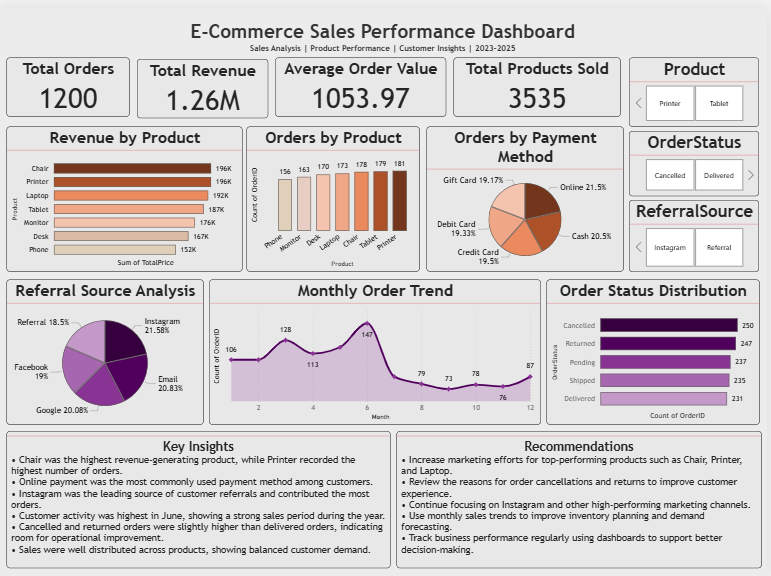

The page's visual inventory and layout, read from the dashboard file:
{"tool":"powerbi","page":{"name":"Page 1","canvas":[1280,950],"ordinal":0},"visuals":[{"type":"textbox","box":[4.7,15.6,1269.1,68.8],"z":0},{"type":"card","title":"Total Orders","fields":{"Values":["CountNonNull(Sheet1.OrderID)"]},"box":[11.7,83.3,205,98.3],"z":1000},{"type":"card","title":"Total Revenue","fields":{"Values":["Sum(Sheet1.TotalPrice)"]},"box":[230,85,218.3,98.3],"z":2000},{"type":"card","title":"Average Order Value","fields":{"Values":["Avg(Sheet1.TotalPrice)"]},"box":[460,83.3,285,98.3],"z":3000},{"type":"card","title":"Total Products Sold","fields":{"Values":["Sum(Sheet1.Quantity)"]},"box":[756.7,83.3,278.3,98.3],"z":4000},{"type":"clusteredBarChart","title":"Revenue by Product","fields":{"Category":["Sheet1.Product"],"Y":["Sum(Sheet1.TotalPrice)"]},"box":[11.7,198.3,393.3,241.7],"z":5000},{"type":"clusteredColumnChart","title":"Orders by Product","fields":{"Category":["Sheet1.Product"],"Y":["CountNonNull(Sheet1.OrderID)"]},"box":[413.3,198.3,288.3,241.7],"z":5001},{"type":"pieChart","title":"Orders by Payment Method","fields":{"Category":["Sheet1.PaymentMethod"],"Y":["CountNonNull(Sheet1.OrderID)"]},"box":[711.7,198.3,328.3,241.7],"z":5002},{"type":"pieChart","title":"Referral Source Analysis","fields":{"Y":["CountNonNull(Sheet1.OrderID)"],"Category":["Sheet1.ReferralSource"]},"box":[11.7,453.3,328.3,241.7],"z":5003},{"type":"lineChart","title":"Monthly Order Trend","fields":{"Y":["CountNonNull(Sheet1.OrderID)"],"Category":["Sheet1.Month"]},"box":[350,453.3,553.3,241.7],"z":5004},{"type":"clusteredBarChart","title":"Order Status Distribution","fields":{"Category":["Sheet1.OrderStatus"],"Y":["CountNonNull(Sheet1.OrderID)"]},"box":[911.7,453.3,355,241.7],"z":5005},{"type":"slicer","title":"Product","fields":{"Values":["Sheet1.Product"]},"box":[1050,83.3,216.7,115],"z":5006},{"type":"slicer","title":"OrderStatus","fields":{"Values":["Sheet1.OrderStatus"]},"box":[1050,205,216.7,108.3],"z":5007},{"type":"slicer","title":"ReferralSource","fields":{"Values":["Sheet1.ReferralSource"]},"box":[1050,320,216.7,120],"z":5008},{"type":"textbox","box":[11.7,705,640,228.3],"z":5009},{"type":"textbox","box":[663.3,705,608.3,228.3],"z":5010}]}

Visuals, with their boxes in screenshot pixels (x1, y1, x2, y2), scaled from the page's 1280x950 canvas onto the 771x576 screenshot:
textbox: locate(3, 9, 767, 51)
"Total Orders" card: locate(7, 51, 131, 110)
"Total Revenue" card: locate(139, 52, 270, 111)
"Average Order Value" card: locate(277, 51, 449, 110)
"Total Products Sold" card: locate(456, 51, 623, 110)
"Revenue by Product" clusteredBarChart: locate(7, 120, 244, 267)
"Orders by Product" clusteredColumnChart: locate(249, 120, 423, 267)
"Orders by Payment Method" pieChart: locate(429, 120, 626, 267)
"Referral Source Analysis" pieChart: locate(7, 275, 205, 421)
"Monthly Order Trend" lineChart: locate(211, 275, 544, 421)
"Order Status Distribution" clusteredBarChart: locate(549, 275, 763, 421)
"Product" slicer: locate(632, 51, 763, 120)
"OrderStatus" slicer: locate(632, 124, 763, 190)
"ReferralSource" slicer: locate(632, 194, 763, 267)
textbox: locate(7, 427, 393, 566)
textbox: locate(400, 427, 766, 566)
